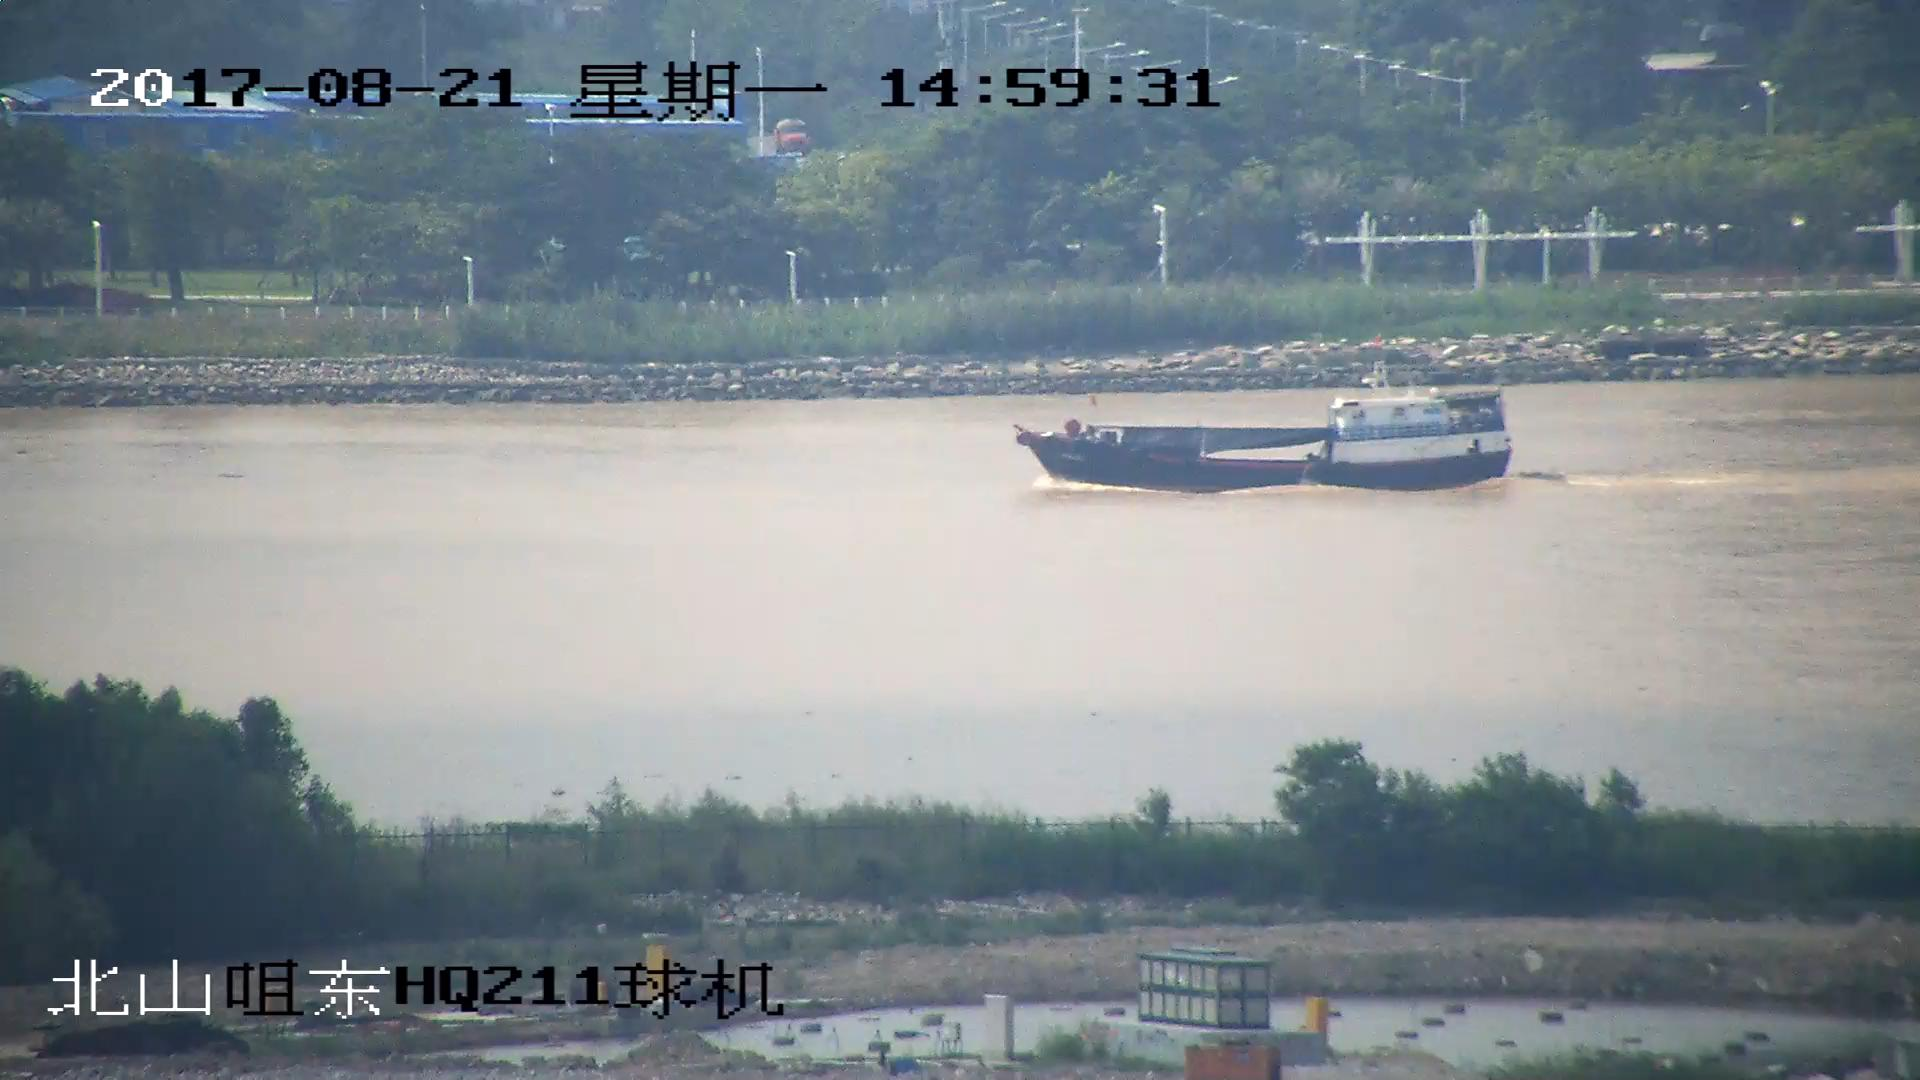fishing boat: (1021, 346, 1518, 491)
